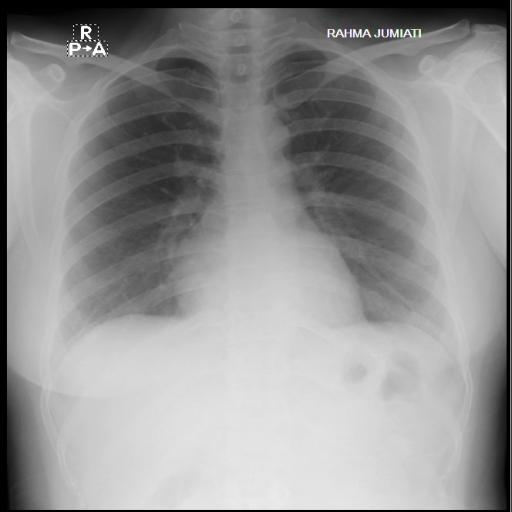normal: (42, 25, 468, 383)
